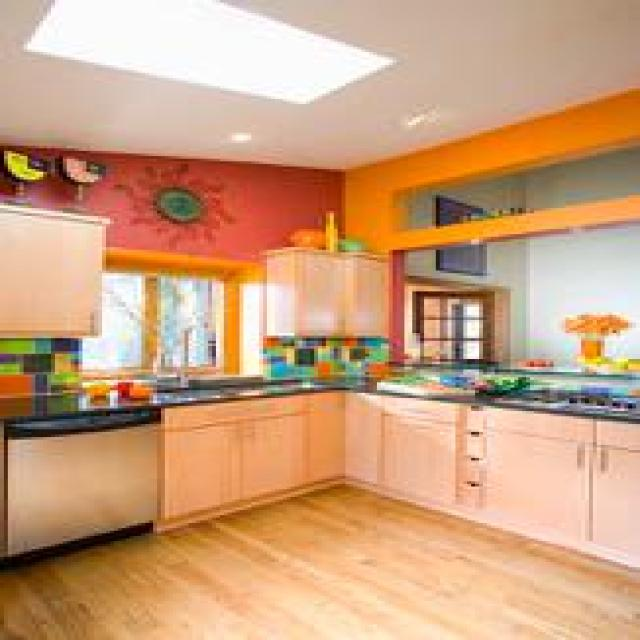dishwasher: (0, 406, 157, 554)
